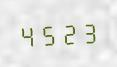five: (38, 21, 57, 47)
four: (18, 22, 37, 48)
three: (78, 18, 97, 44)
two: (58, 20, 77, 45)
